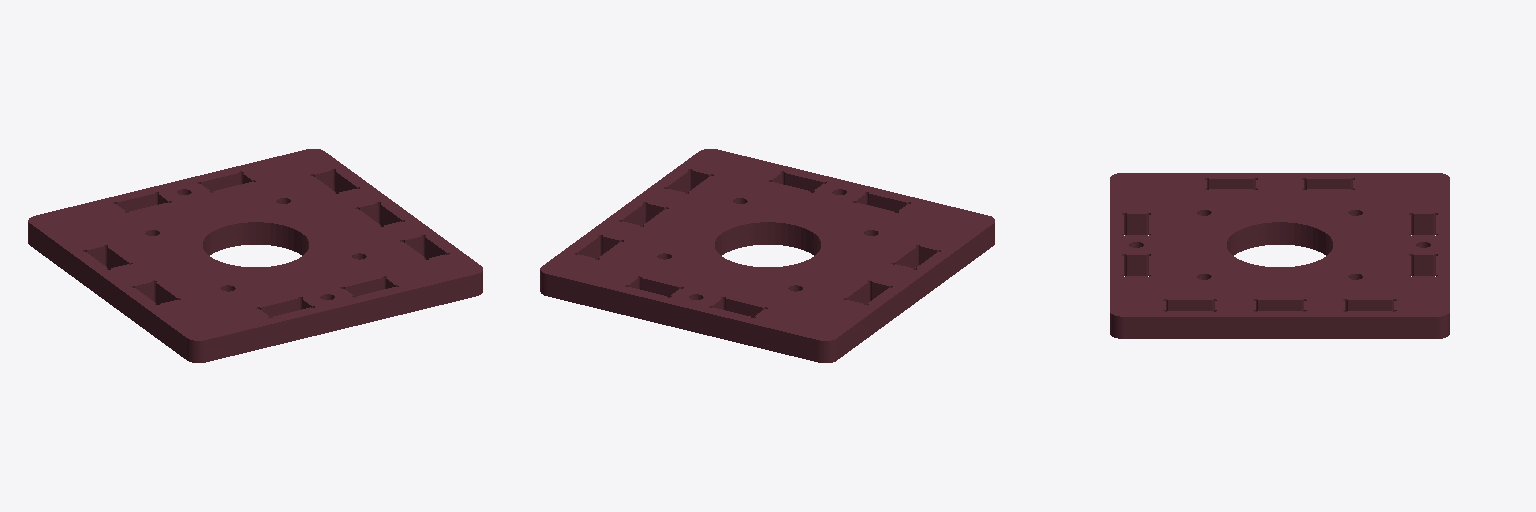
3 renders of one model, left to right at view 1: azimuth 30°, elevation 25°; view 2: azimuth 150°, elevation 25°; view 3: azimuth 270°, elevation 25°, orthographic.
Visible parts, largest first — view 1: Mesh.004_Mesh.010_Mesh.031_Cur; view 2: Mesh.004_Mesh.010_Mesh.031_Cur; view 3: Mesh.004_Mesh.010_Mesh.031_Cur.
Boxes of the visible parts, x1,y1,x2,y2 form: Mesh.004_Mesh.010_Mesh.031_Cur: [28, 149, 482, 362]; Mesh.004_Mesh.010_Mesh.031_Cur: [540, 149, 994, 362]; Mesh.004_Mesh.010_Mesh.031_Cur: [1110, 173, 1449, 338].
Size of the model in its own units: 2.76 by 0.2 by 2.76.